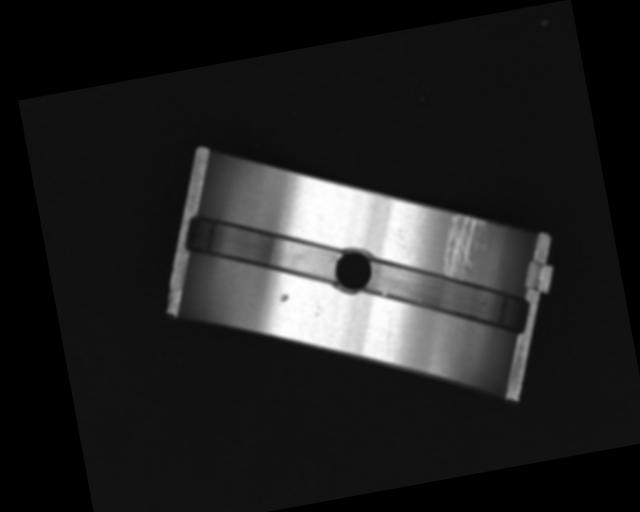bruise: (277, 292, 289, 304)
gap: (360, 237, 530, 359), (183, 193, 343, 302)
hole: (330, 247, 375, 296)
nick: (380, 318, 398, 358)
scratch: (434, 209, 494, 282)
